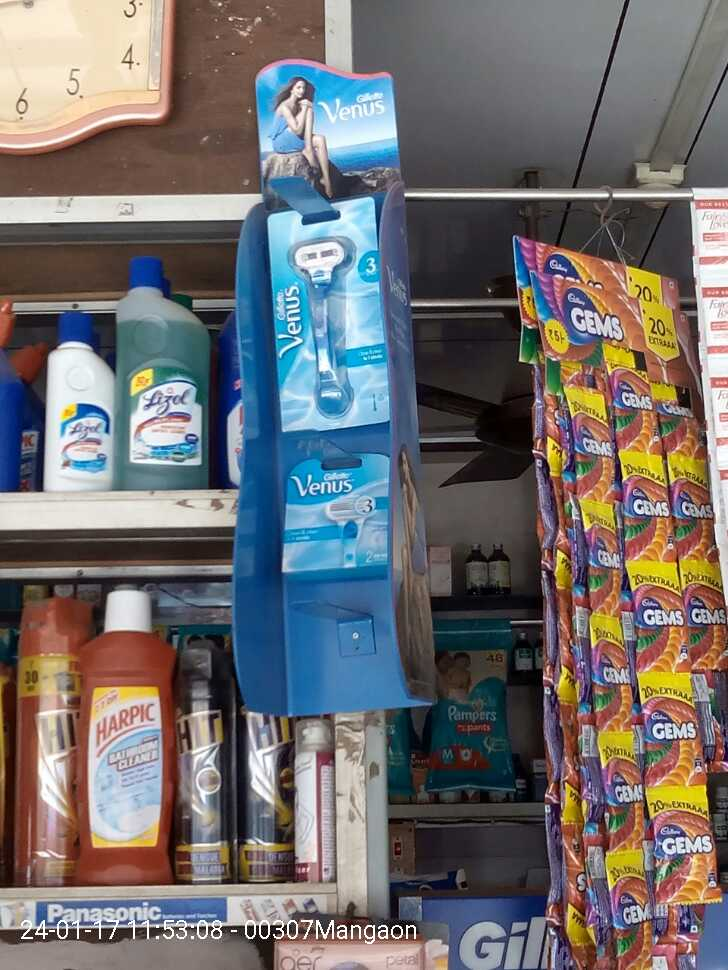beauty: (267, 215, 391, 422), (274, 460, 392, 571)
pharmacy: (424, 622, 517, 791)
